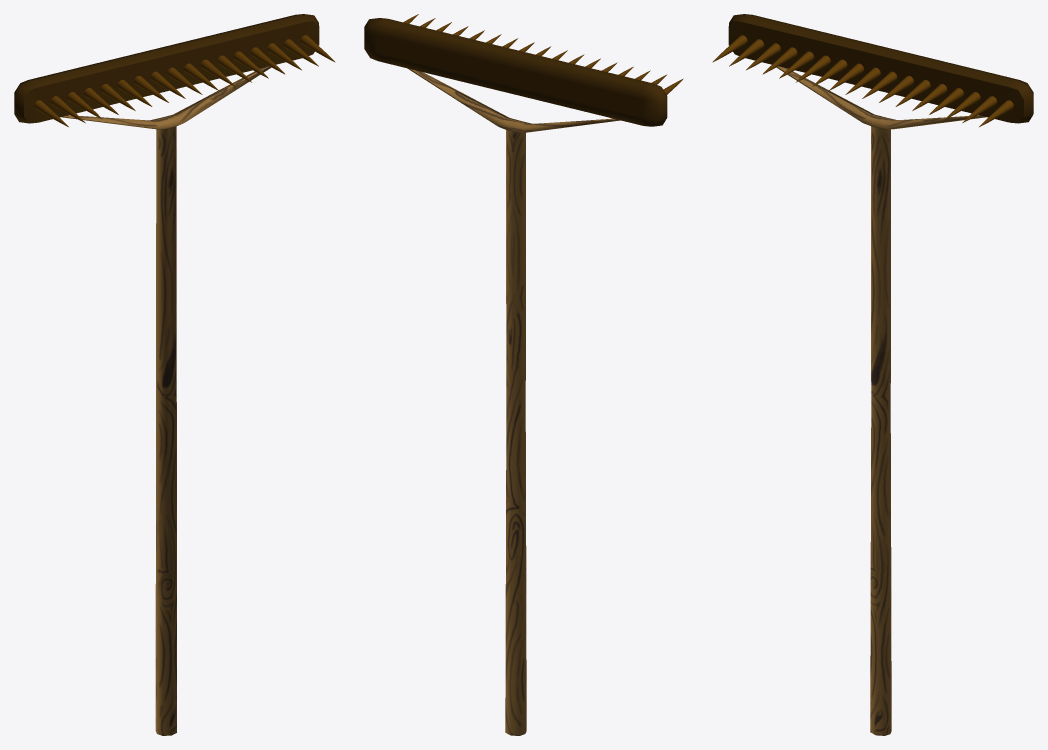
Rendered from rakeV1.fbx.
The picture shows the model from 3 angles, left to right: view 1: azimuth 30°, elevation 25°; view 2: azimuth 150°, elevation 25°; view 3: azimuth 330°, elevation 25°; orthographic projection.
Visible parts, largest first — view 1: rakeV1; view 2: rakeV1; view 3: rakeV1.
Part boxes in pixels (bbox=[...]): rakeV1: bbox=[14, 14, 335, 735]; rakeV1: bbox=[364, 14, 683, 735]; rakeV1: bbox=[712, 14, 1033, 735].
Size of the model in its own units: 0.6998 by 1.5 by 0.1654.
2 materials, 2 textured.
